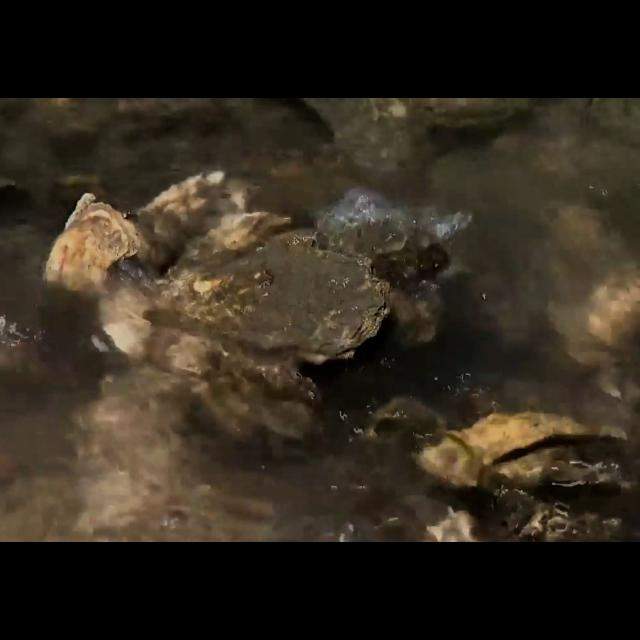Oyster-Closed: (152, 241, 394, 363), (306, 187, 474, 257), (125, 172, 261, 254), (44, 191, 140, 295)
Oyster-Open: (421, 411, 625, 489), (159, 211, 295, 285)
